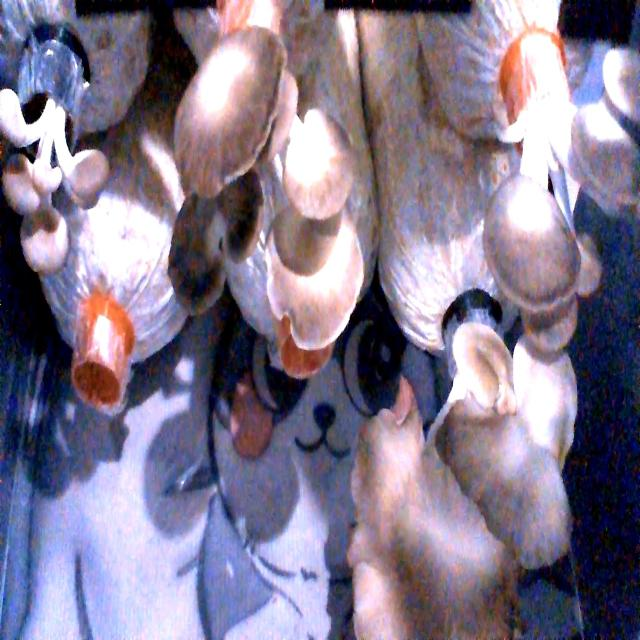big: (161, 18, 370, 381), (344, 332, 592, 633), (486, 62, 638, 354)
nfound: (68, 331, 134, 440)
small: (0, 82, 100, 270)
